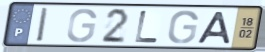2: (100, 7, 131, 45)
A: (196, 10, 233, 45)
G: (65, 7, 99, 44), (166, 9, 200, 45)
I: (35, 6, 51, 44)
L: (133, 9, 161, 44)
